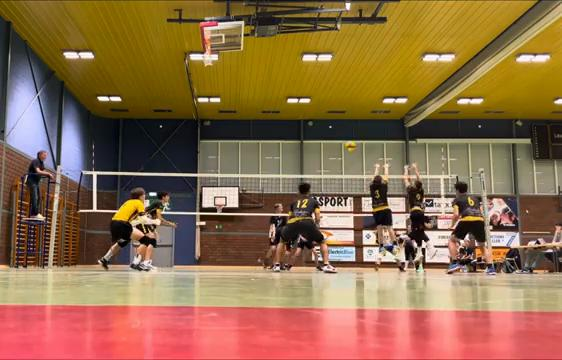muro: (400, 160, 438, 264), (365, 159, 400, 255)
